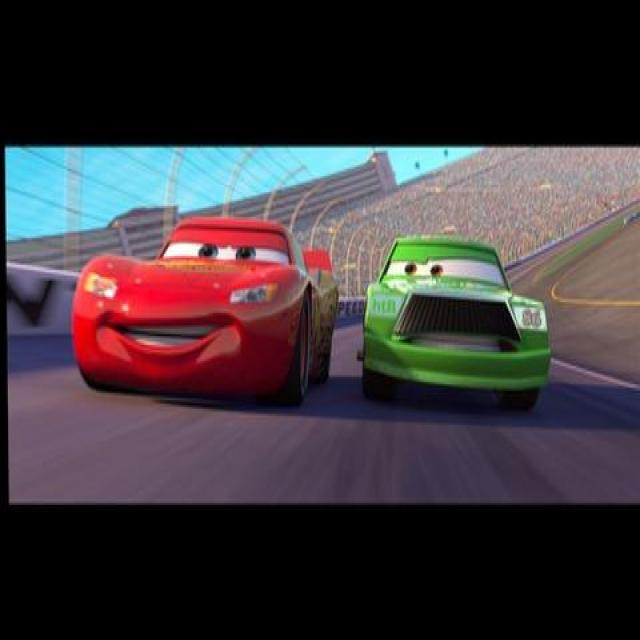car: (61, 186, 335, 422), (355, 204, 560, 418)
